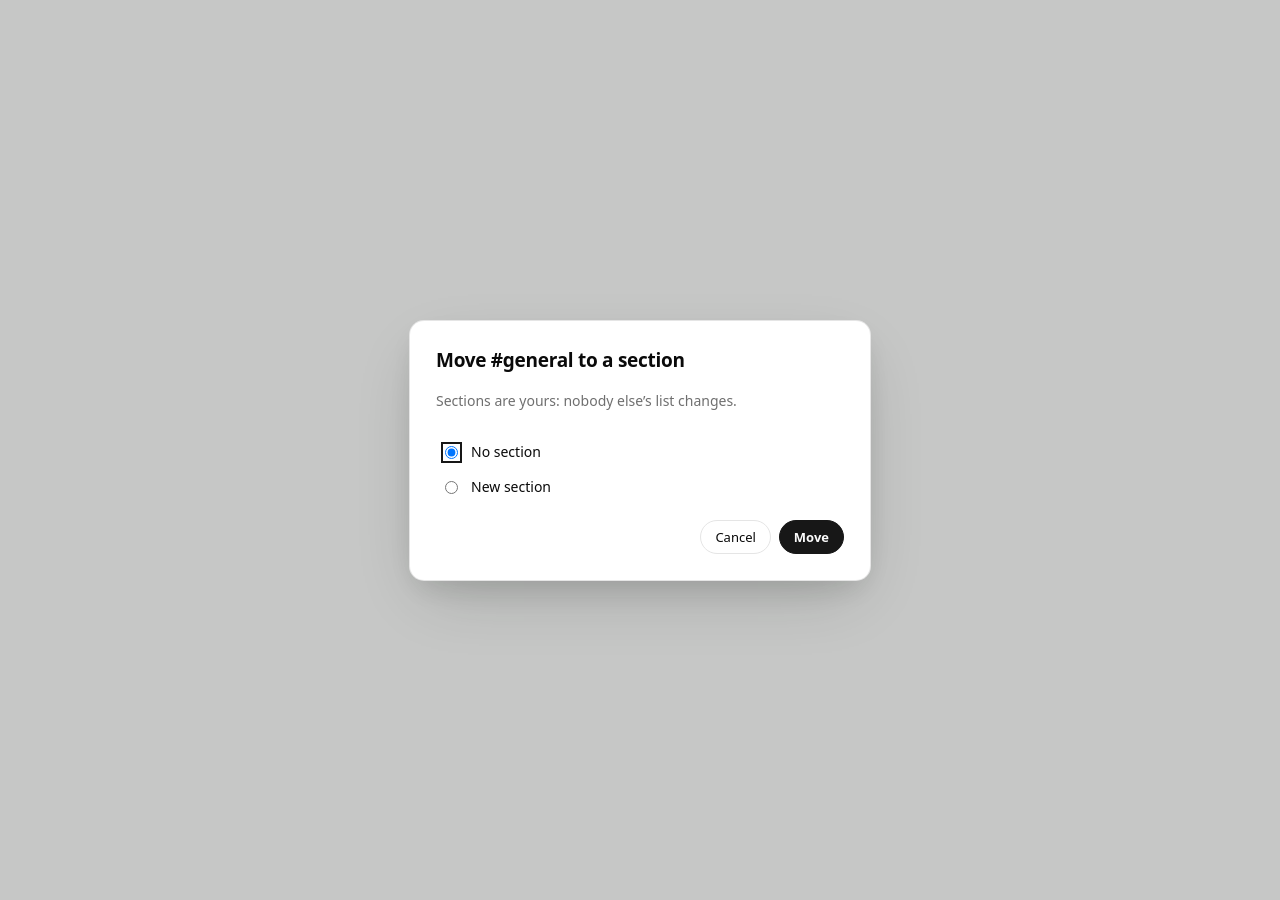
Test case: moving a conversation › asks for a name before making a section
Click the radio button labelled "New section" at (452, 488), box [445,481,458,494]
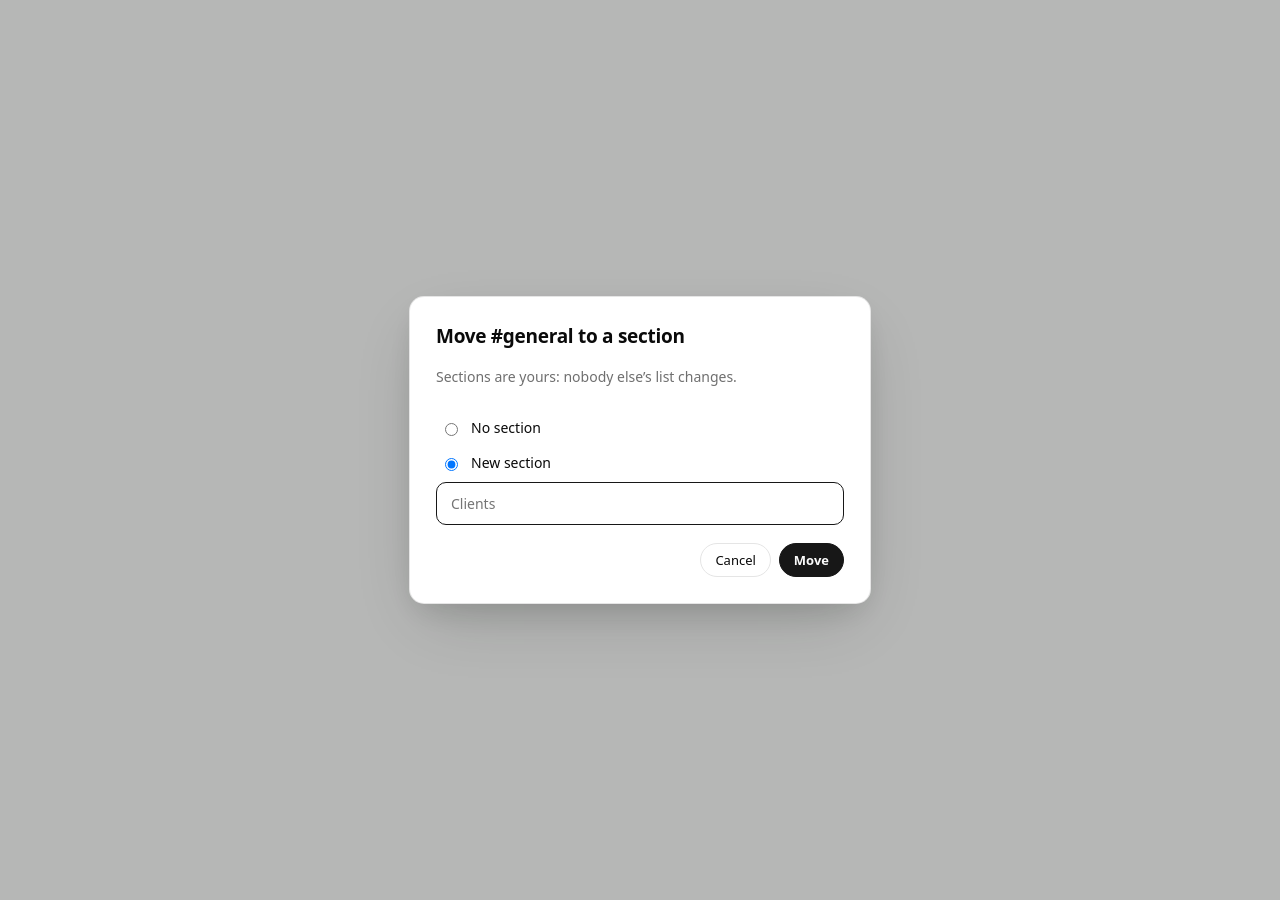
Click the button "Move" at (811, 560), box [779,543,844,577]
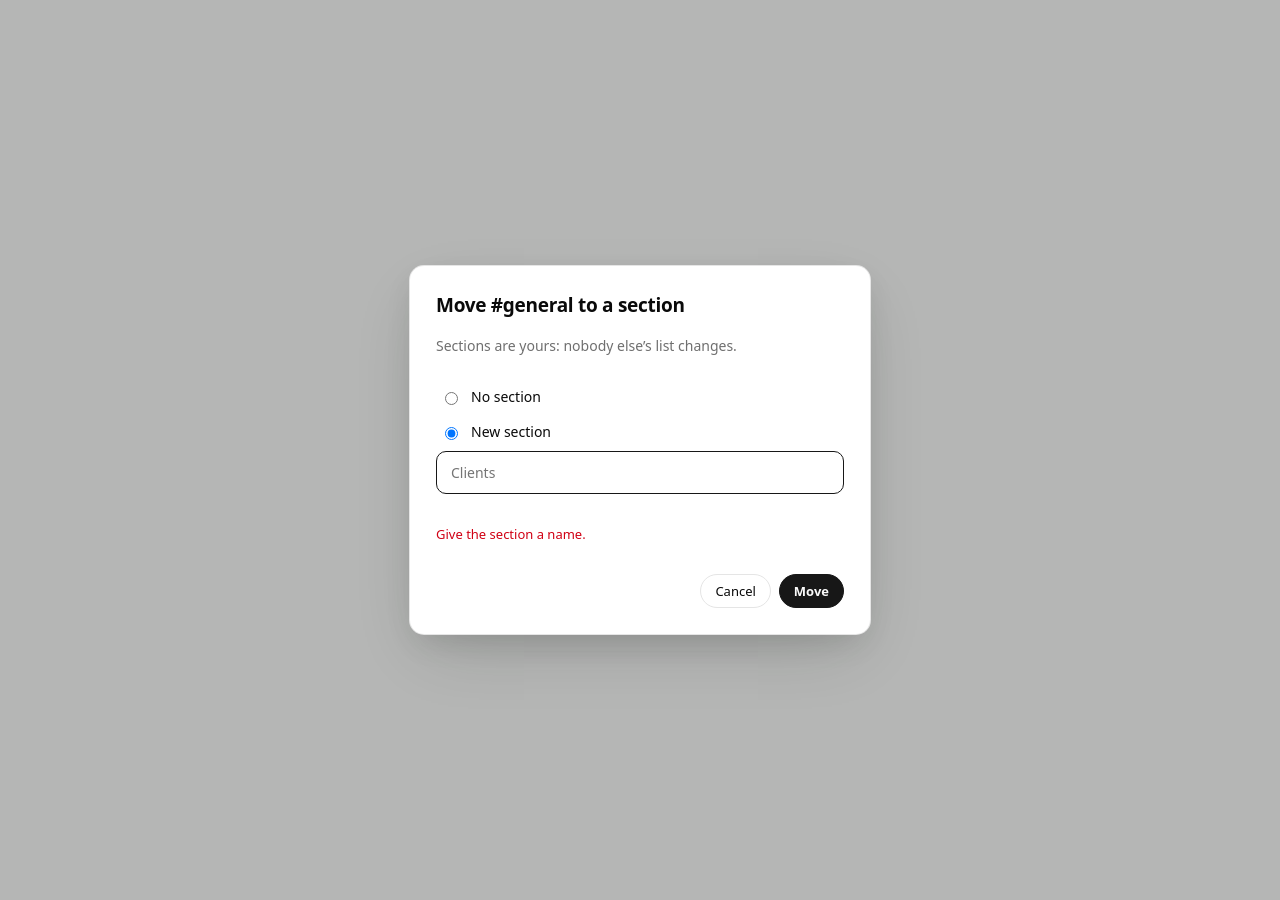
Result: the text "Give the section a name." is shown at [436,525,586,543]
